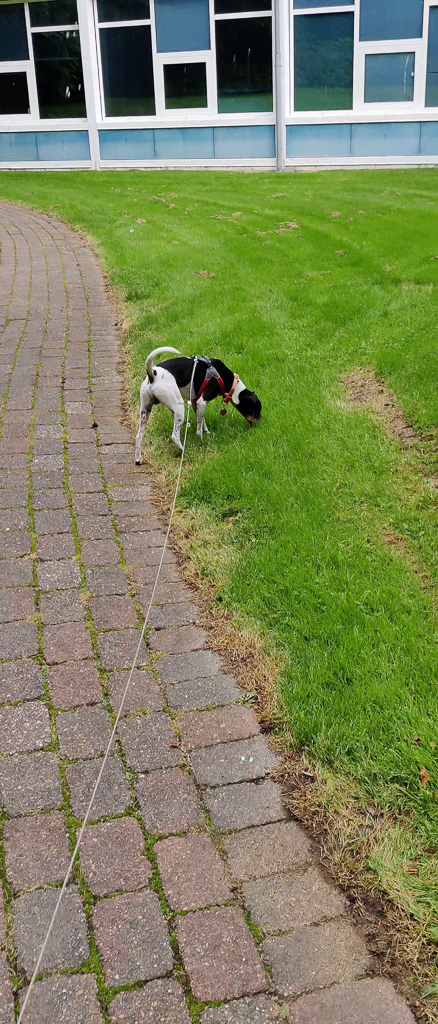Dog: (125, 342, 271, 471)
